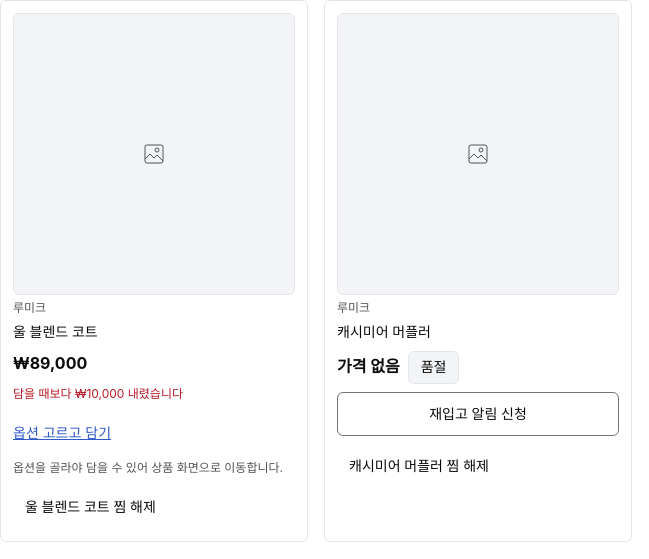
it: F3 · F4 · F5 위시리스트 화면 › marks the sold-out row and offers the restock alert there (F4)
Expected: the text "품절" is shown, [408,351,460,384]
Expected: the text "가격 없음" is shown, [337,354,400,380]
Click the button "재입고 알림 신청": [478, 414] box [337,392,619,436]
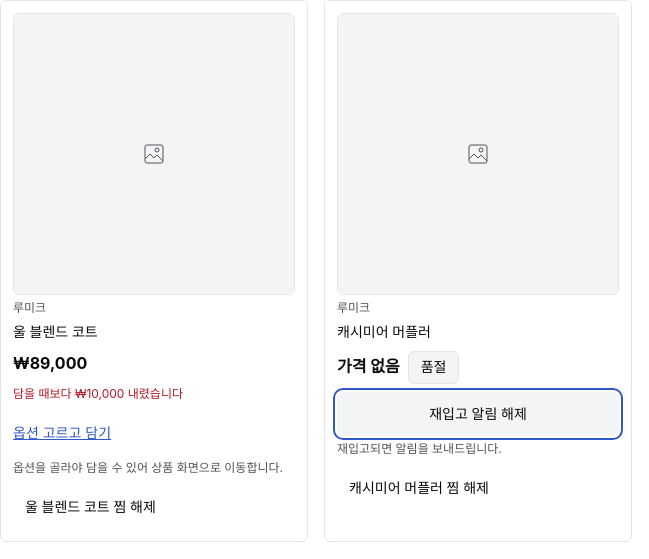
Now the button "재입고 알림 해제" is shown, box [337,392,619,436]
Now the text "재입고되면 알림을 보내드립니다." is shown, box [337,441,502,456]
